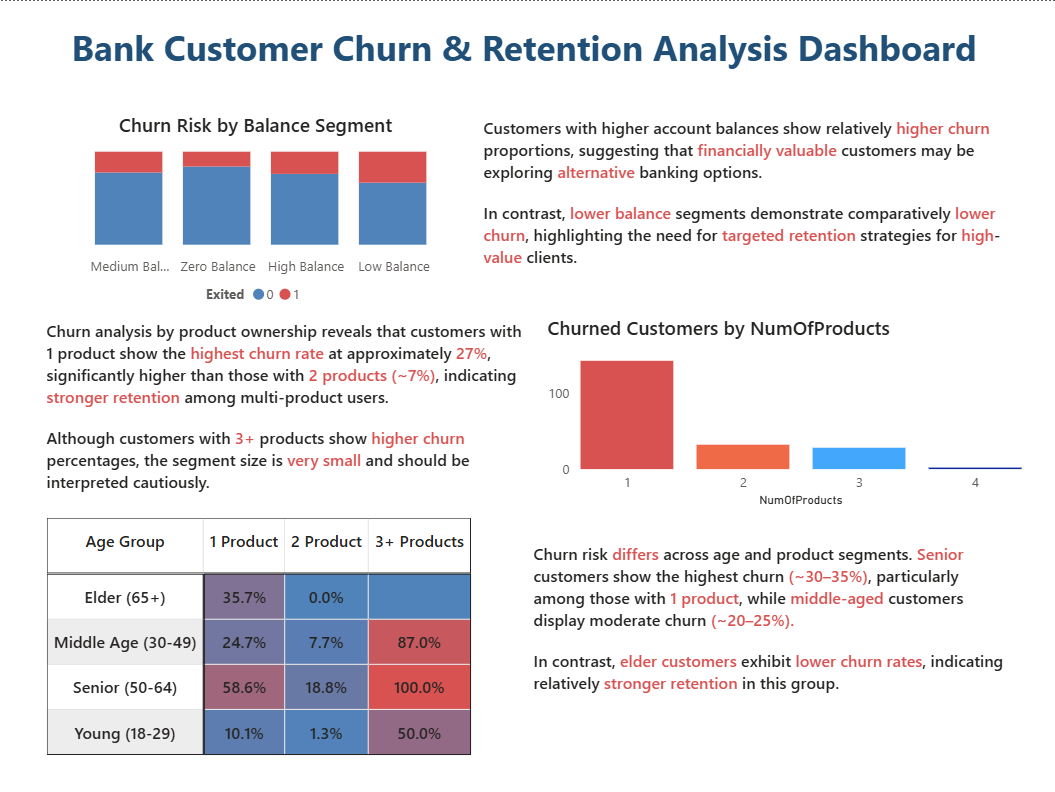

This screenshot's page, from the dashboard's own definition file:
{"tool":"powerbi","page":{"name":"Risk Segmentation","canvas":[960,720],"ordinal":2},"visuals":[{"type":"textbox","box":[60,14.4,840,55.8],"z":0},{"type":"hundredPercentStackedColumnChart","title":"Churn Risk by Balance Segment","fields":{"Category":["Bank_Total_data.Balance Segment"],"Y":["Bank_Total_data.Total Customers"],"Series":["Bank_Total_data.Exited"]},"box":[37.3,100,390,184.5],"z":1000},{"type":"clusteredColumnChart","fields":{"Category":["Bank_Total_data.NumOfProducts"],"Y":["churn_gender.Churned Customers"]},"box":[492.7,284.5,440.9,180],"z":2000},{"type":"pivotTable","fields":{"Rows":["Bank_Total_data.Age Group"],"Columns":["Bank_Total_data.Product__Group1"],"Values":["Bank_Total_data.Churnmatrix"]},"box":[37.3,464.5,397.3,228.2],"z":3000},{"type":"textbox","box":[434.5,100,499.1,168.2],"z":3001},{"type":"textbox","box":[37.3,284.5,442.7,180],"z":3002},{"type":"textbox","box":[480,487.3,440.9,154.5],"z":3003}]}

Visuals, with their boxes in screenshot pixels (x1, y1, x2, y2), scaled from the page's 960x720 canvas onto the 1055x792 screenshot:
textbox: crop(66, 16, 989, 77)
"Churn Risk by Balance Segment" hundredPercentStackedColumnChart: crop(41, 110, 470, 313)
clusteredColumnChart - Bank_Total_data.NumOfProducts x churn_gender.Churned Customers: crop(541, 313, 1026, 511)
pivotTable - Bank_Total_data.Age Group x Bank_Total_data.Product__Group1: crop(41, 511, 478, 762)
textbox: crop(477, 110, 1026, 295)
textbox: crop(41, 313, 528, 511)
textbox: crop(528, 536, 1012, 706)
